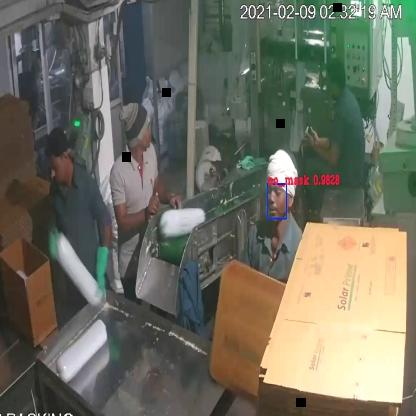glove: (92, 232, 118, 309), (48, 216, 66, 267)
no_glove: (292, 125, 347, 171), (110, 189, 164, 235), (145, 171, 184, 217)
